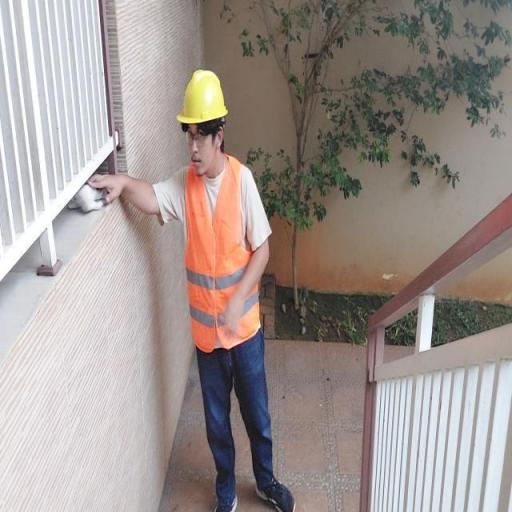Person: (82, 58, 344, 506)
helmet: (172, 68, 230, 130)
vest: (182, 152, 281, 350)
